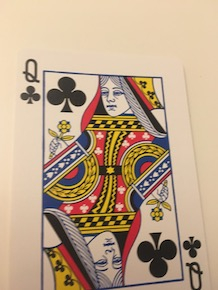QueenOfClubs: (11, 45, 218, 289)
